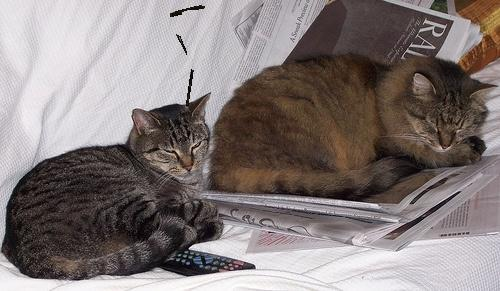tampered: (171, 6, 205, 108)
